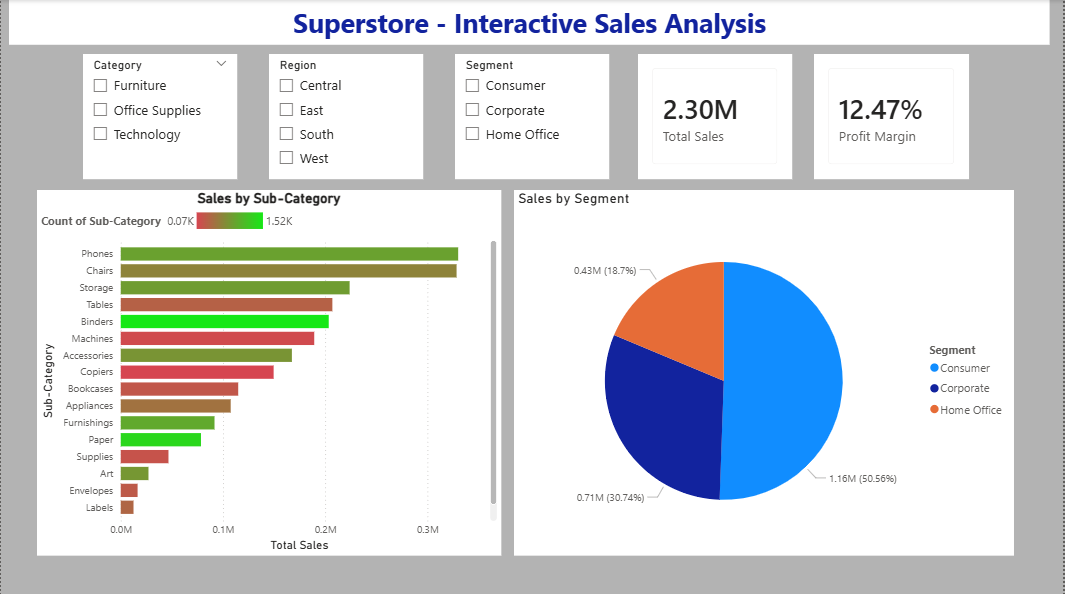

The page's visual inventory and layout, read from the dashboard file:
{"tool":"powerbi","page":{"name":"Interactive Analysis","canvas":[1280,720],"ordinal":1},"visuals":[{"type":"textbox","box":[9.6,0,1255.5,54.3],"z":0},{"type":"slicer","fields":{"Values":["Sample - Superstore.Category"]},"box":[98.9,65.1,185.7,150.8],"z":1},{"type":"slicer","fields":{"Values":["Sample - Superstore.Region"]},"box":[323.2,65.1,185.7,150.8],"z":2},{"type":"slicer","fields":{"Values":["Sample - Superstore.Segment"]},"box":[547.5,65.1,185.7,150.8],"z":3},{"type":"barChart","title":"Sales by Sub-Category","fields":{"Category":["Sample - Superstore.Sub-Category"],"Y":["Sample - Superstore.Total Sales"]},"box":[43.4,229.1,559.6,441.4],"z":4},{"type":"pieChart","title":"Sales by Segment","fields":{"Category":["Sample - Superstore.Segment"],"Y":["Sample - Superstore.Total Sales"]},"box":[618.7,229.1,603,441.4],"z":5},{"type":"cardVisual","fields":{"Data":["Sample - Superstore.Total Sales"]},"box":[768.2,65.1,185.7,150.8],"z":6},{"type":"cardVisual","fields":{"Data":["Sample - Superstore.Profit Margin"]},"box":[980.5,65.1,186.9,150.8],"z":7}]}

Visuals, with their boxes in screenshot pixels (x1, y1, x2, y2), scaled from the page's 1280x720 canvas onto the 1065x594 screenshot:
textbox: box(8, 0, 1053, 45)
slicer - Sample - Superstore.Category: box(82, 54, 237, 178)
slicer - Sample - Superstore.Region: box(269, 54, 423, 178)
slicer - Sample - Superstore.Segment: box(456, 54, 610, 178)
"Sales by Sub-Category" barChart: box(36, 189, 502, 553)
"Sales by Segment" pieChart: box(515, 189, 1016, 553)
cardVisual - Sample - Superstore.Total Sales: box(639, 54, 794, 178)
cardVisual - Sample - Superstore.Profit Margin: box(816, 54, 971, 178)
